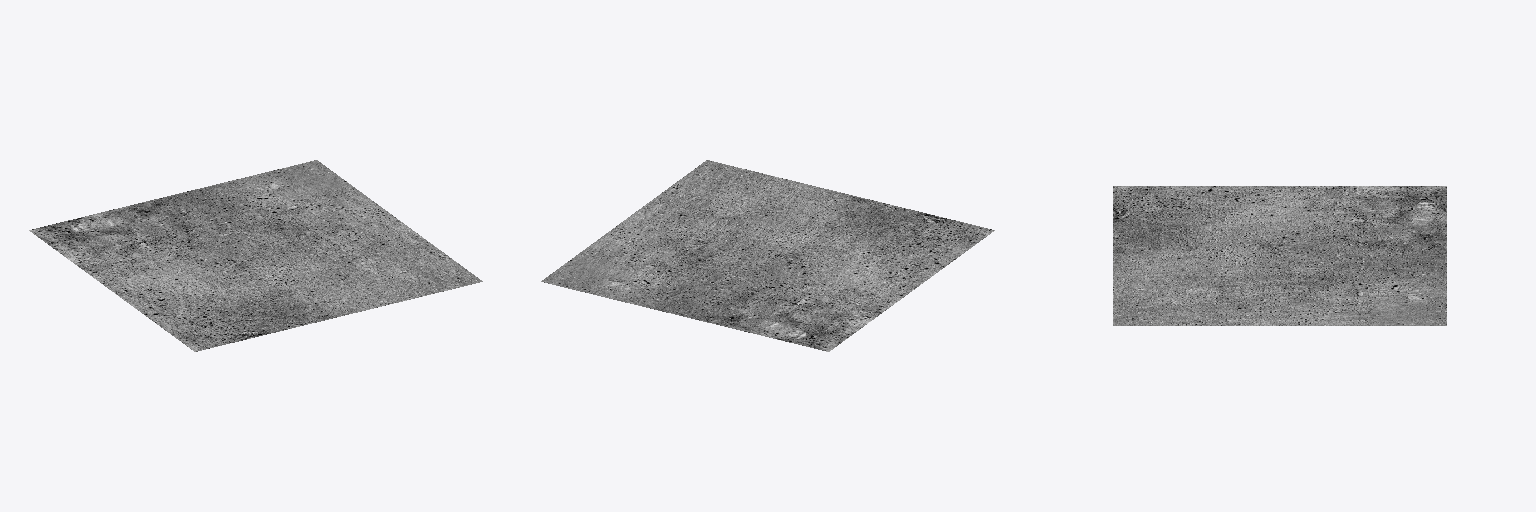
3 renders of one model, left to right at view 1: azimuth 30°, elevation 25°; view 2: azimuth 150°, elevation 25°; view 3: azimuth 270°, elevation 25°, orthographic.
Parts seen in each view (by area): view 1: Plane; view 2: Plane; view 3: Plane.
Boxes of the visible parts, x1,y1,x2,y2 form: Plane: [29, 160, 482, 351]; Plane: [541, 160, 994, 351]; Plane: [1113, 186, 1446, 325].
Size of the model in its own units: 8 by 0 by 8.
1 materials, 1 textured.